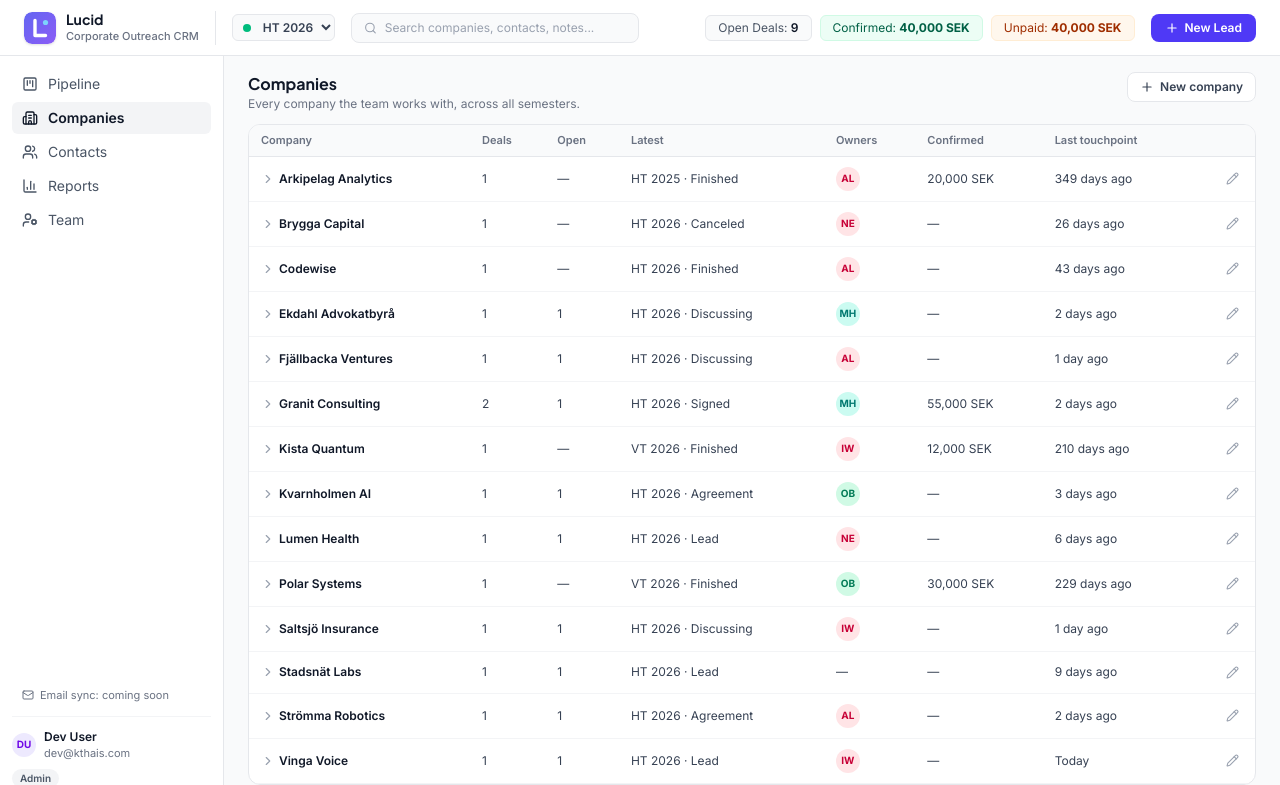
Test: Companies groups every semester’s deals by company and opens one
The image size is (1280, 785).
Expected: the row "Granit Consulting" shows "2", [482,396,489,411]
Expected: the row "Granit Consulting" shows "55,000 SEK", [927,396,994,411]
Click the button "Granit Consulting" at (321, 404), box [261,396,380,412]
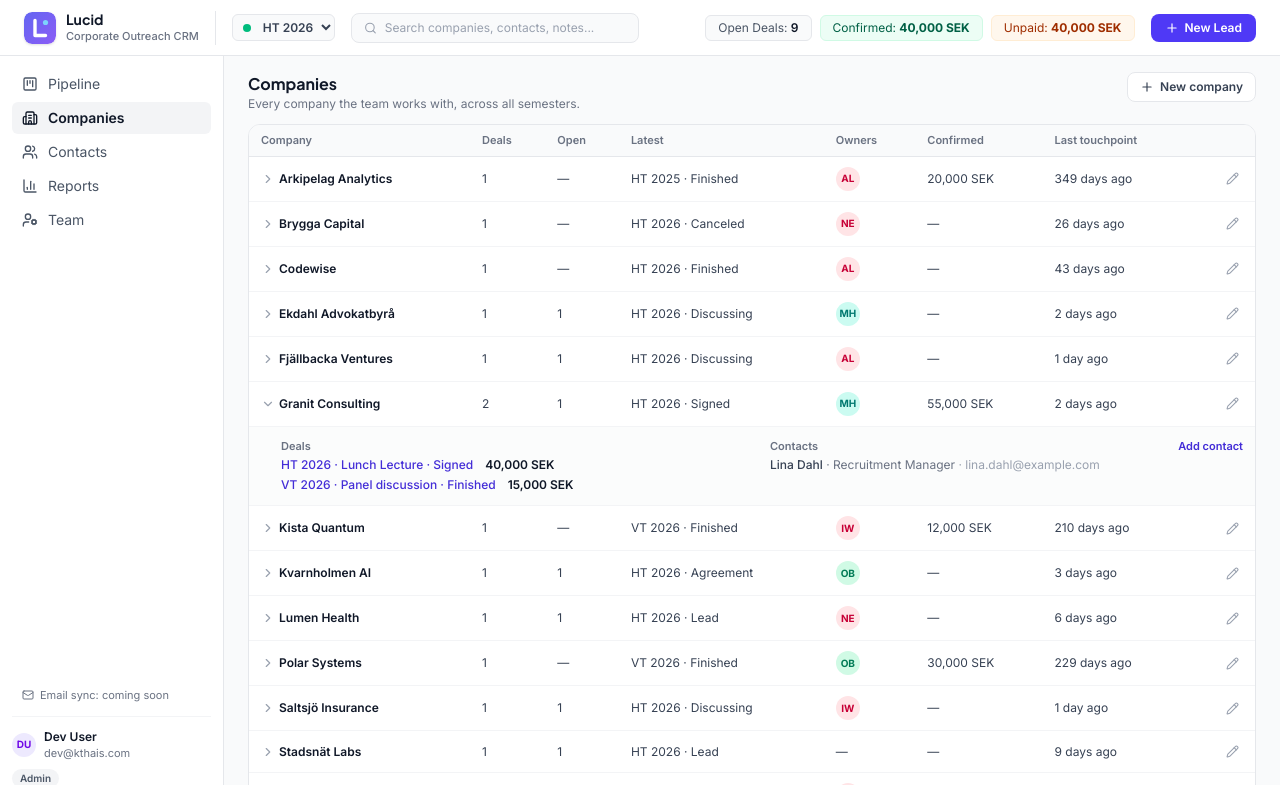
Click the button "VT 2026 · Panel discussion · Finished" at (388, 485), box [281,477,496,493]
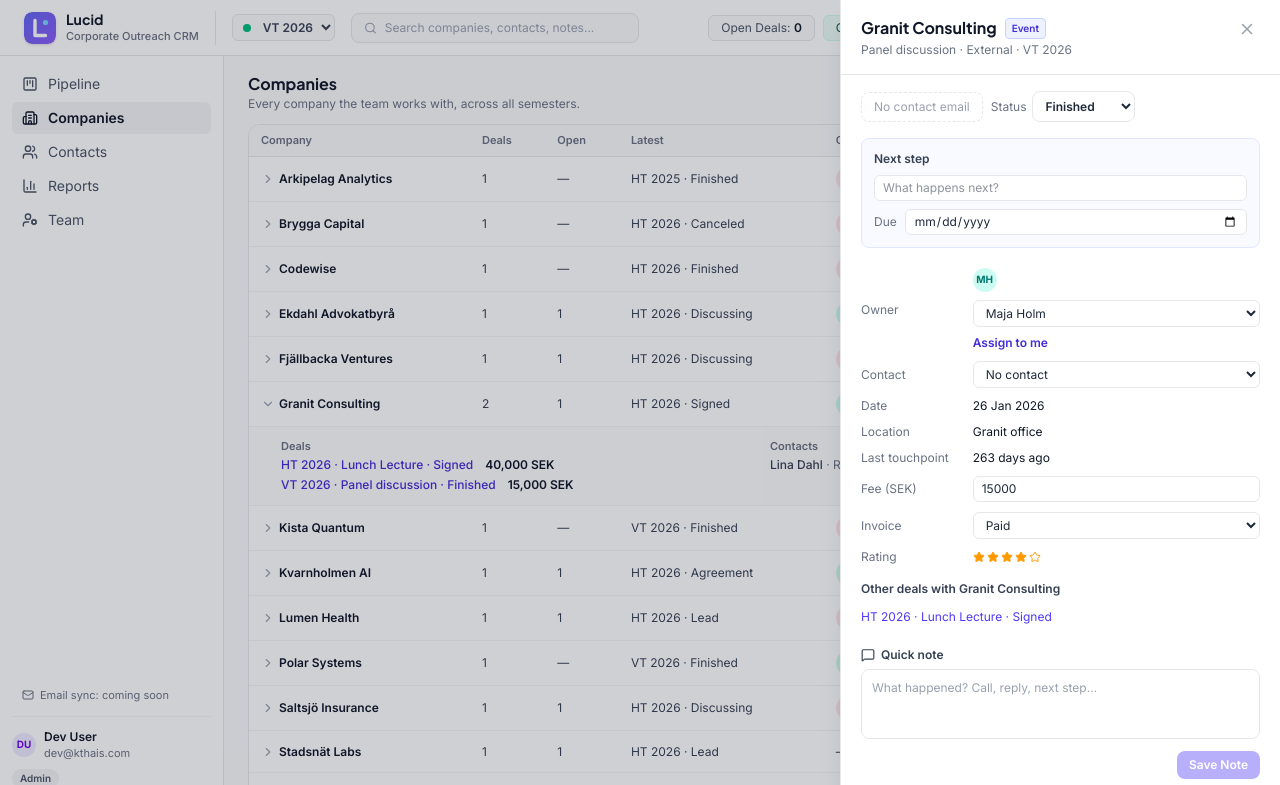
Result: the dialog "Granit Consulting" shows "Panel discussion" at [861,42,956,57]
Result: the dropdown named "Semester" shows "VT 2026" at [259,17,334,38]
